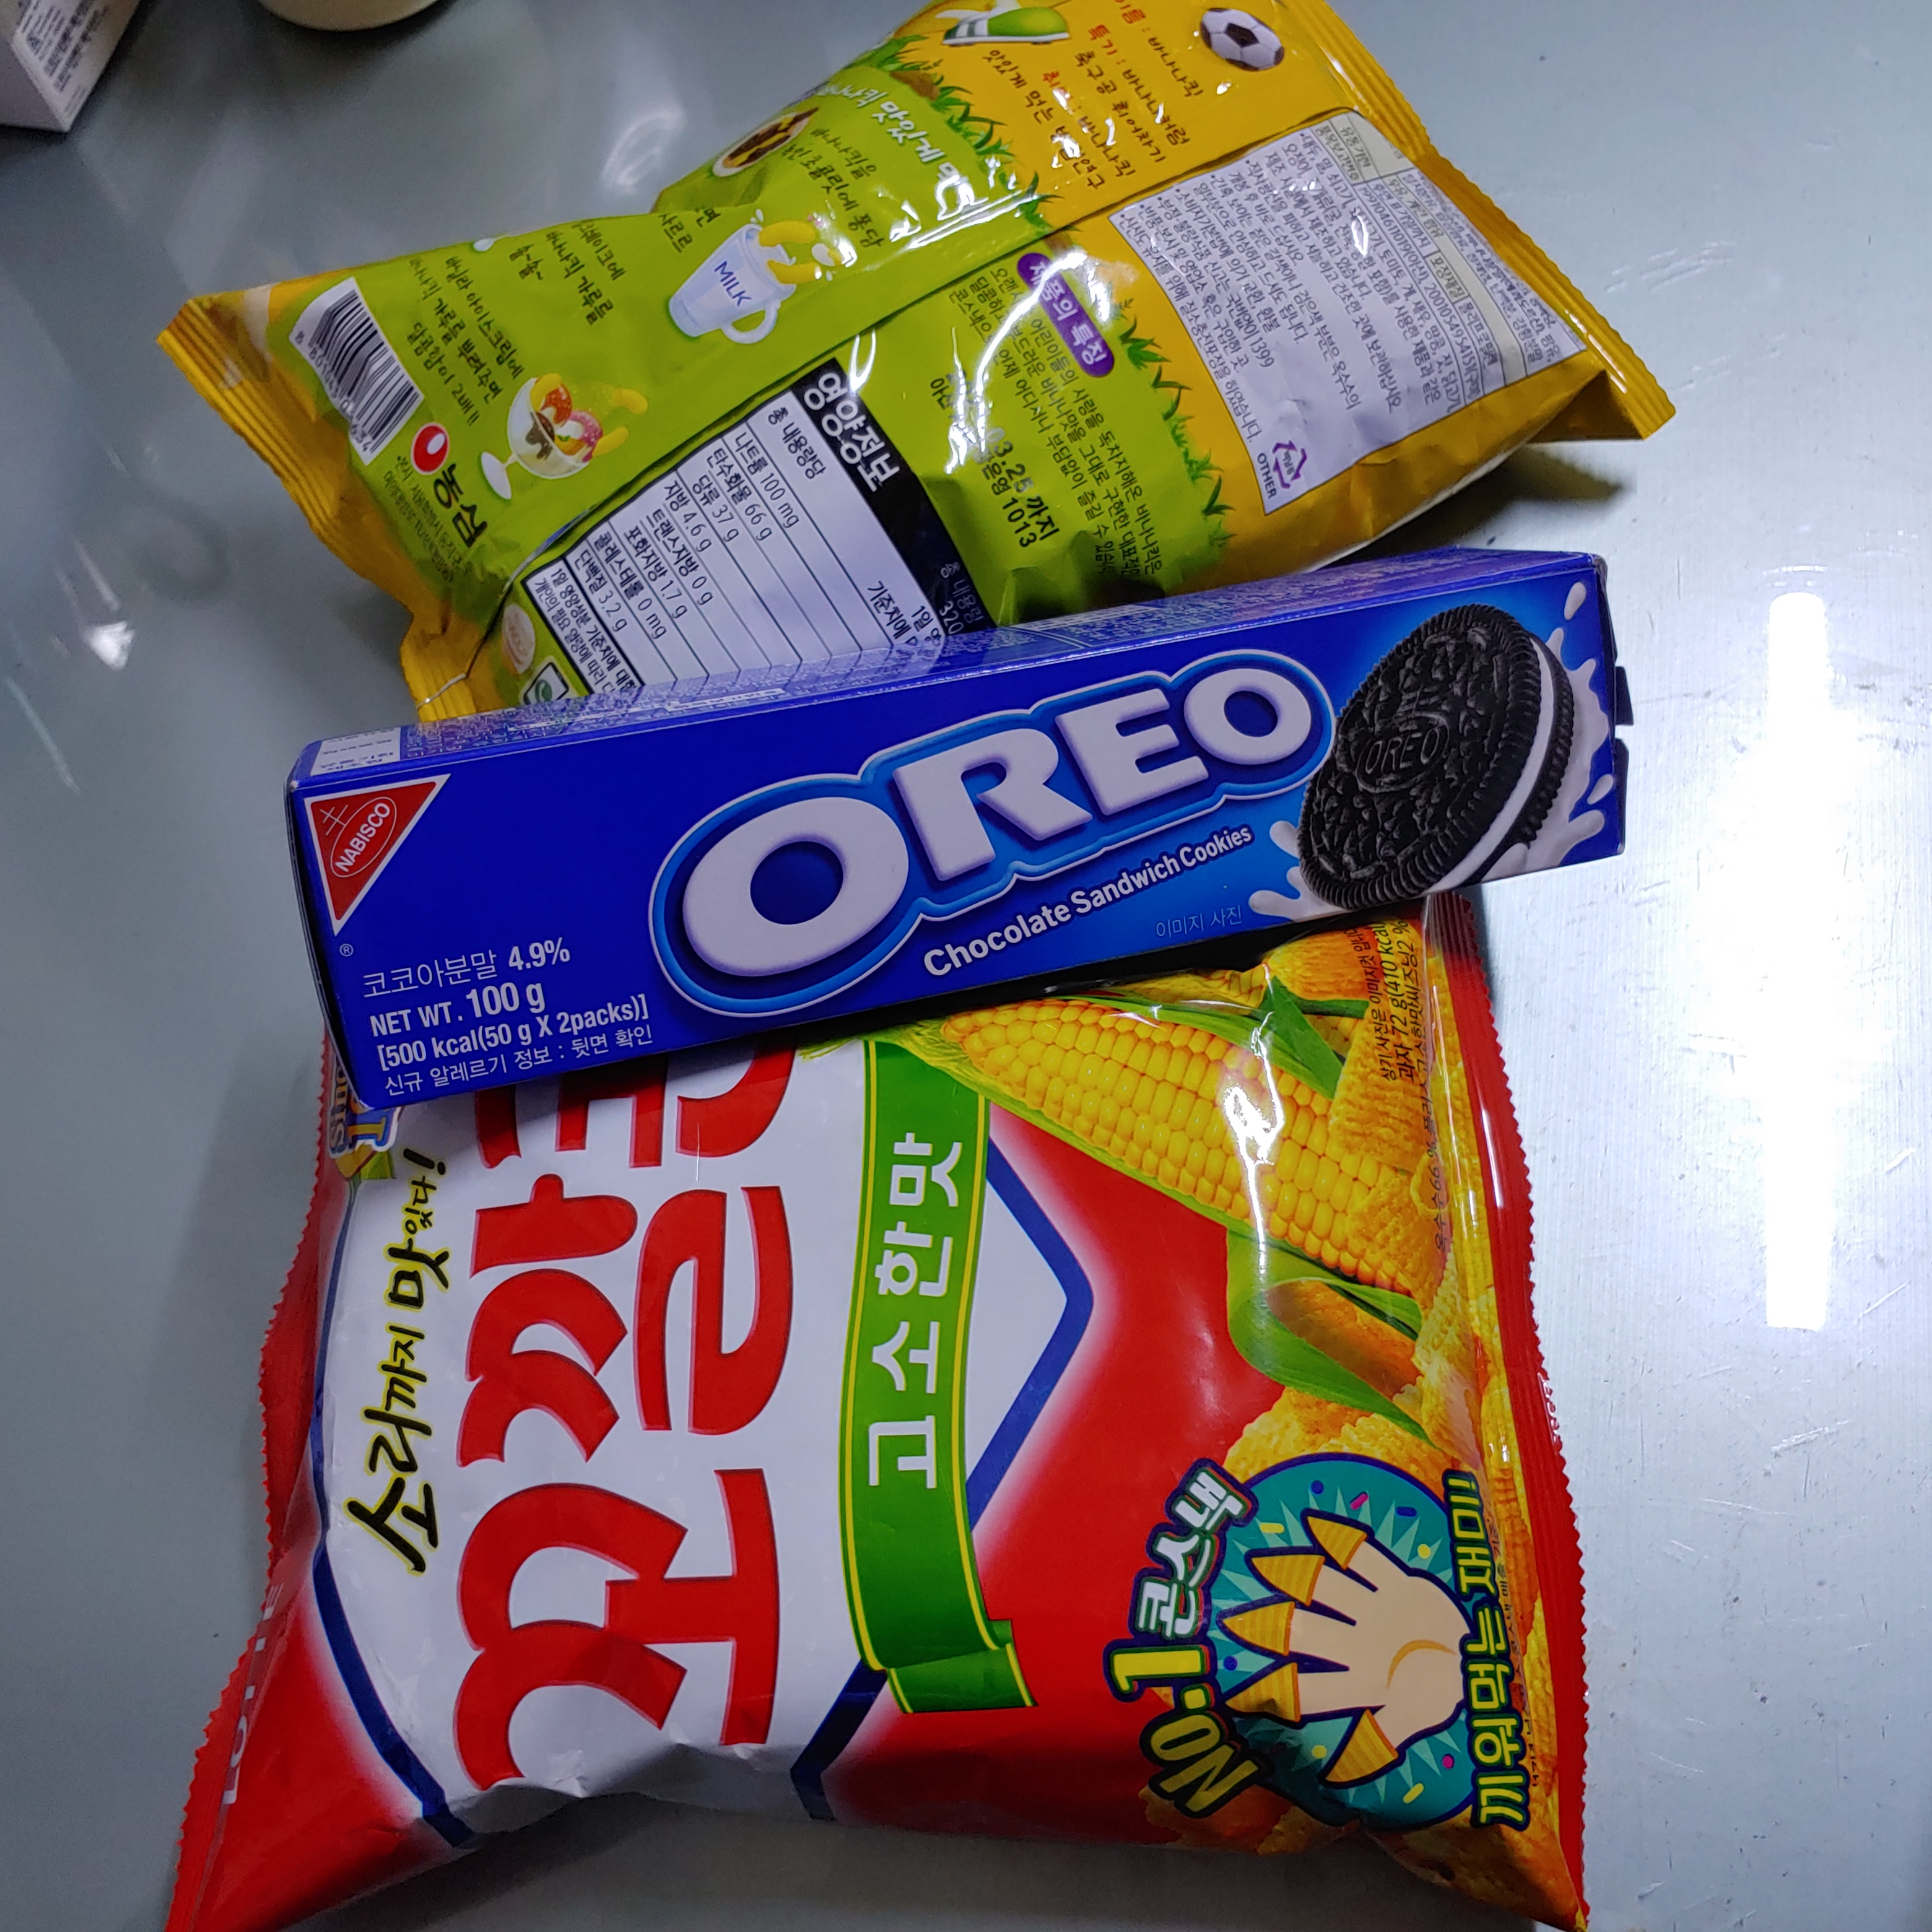banana: (108, 11, 1753, 701)
ggoggalcon: (108, 856, 1624, 1932)
oreo: (202, 596, 1753, 1148)
